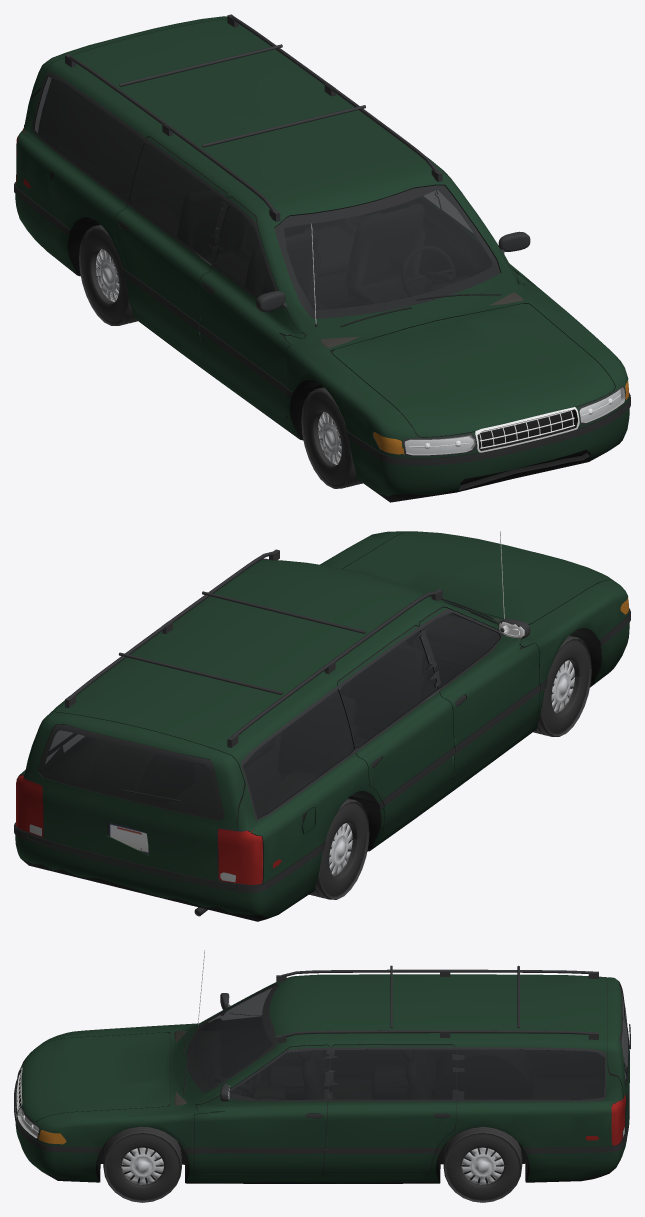
Rendered from car_wagon.glb.
3 views of the same model, one above another, from view 1: azimuth 30°, elevation 25°; view 2: azimuth 150°, elevation 25°; view 3: azimuth 270°, elevation 25° (orthographic). The views are drawn at different scales.
Visible parts, largest first — view 1: body, wheel_FR, wheel_RR; view 2: body, wheel_FR, wheel_RR; view 3: body, wheel_FL, wheel_RL.
Boxes of the visible parts, x1,y1,x2,y2 form: body: [14, 14, 630, 502]; wheel_FR: [301, 387, 362, 488]; wheel_RR: [79, 224, 137, 325]; body: [14, 531, 630, 921]; wheel_FR: [533, 635, 591, 736]; wheel_RR: [309, 798, 369, 899]; body: [14, 950, 630, 1183]; wheel_FL: [103, 1126, 181, 1202]; wheel_RL: [443, 1127, 522, 1202].
Size of the model in its own units: 2.07 by 1.65 by 5.33.
Materials: 12 (1 with a texture image).
